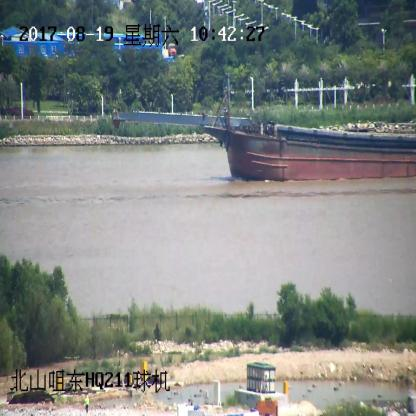Bulk Carrier: (113, 75, 415, 182)
